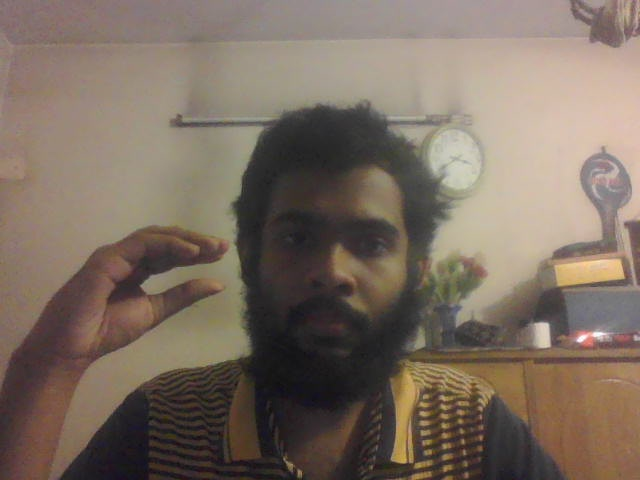No: (33, 227, 234, 355)
